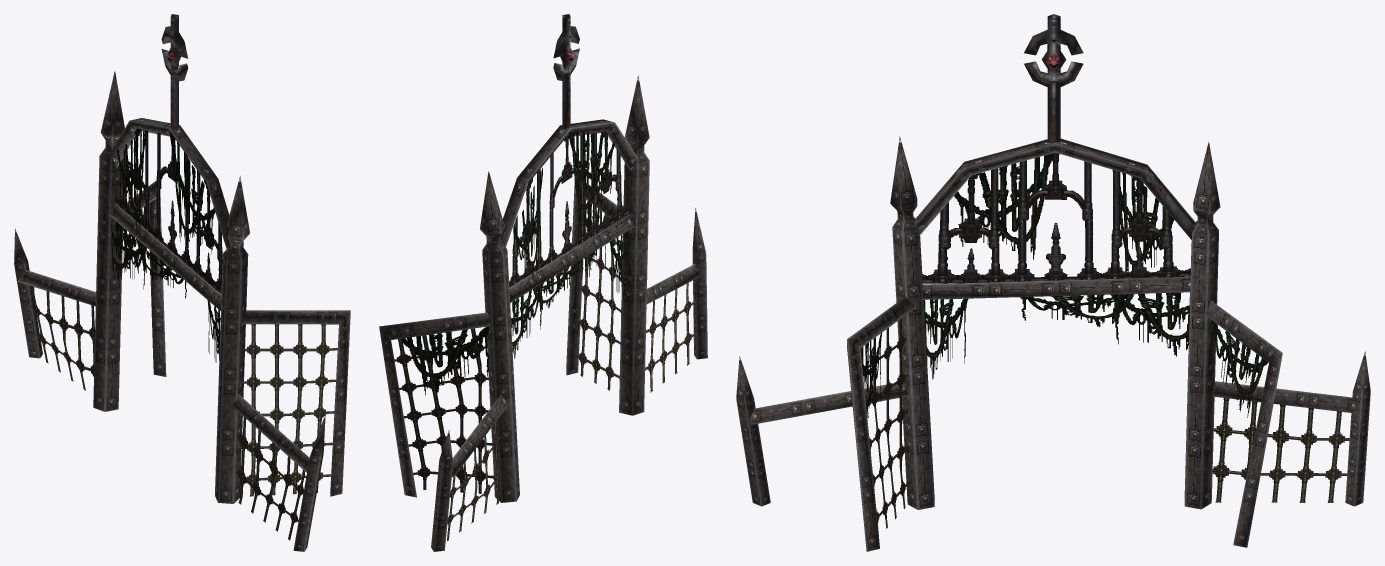
File: cemetarygate01.obj
3 renders of one model, left to right at view 1: azimuth 30°, elevation 25°; view 2: azimuth 150°, elevation 25°; view 3: azimuth 270°, elevation 25°, orthographic. The views are drawn at different scales.
Parts seen in each view (by area): view 1: CEMETARYGATE010, CEMETARYGATE013, CEMETARYGATE014, CEMETARYGATE012, CEMETARYGATE011; view 2: CEMETARYGATE010, CEMETARYGATE014, CEMETARYGATE013, CEMETARYGATE012, CEMETARYGATE011; view 3: CEMETARYGATE010, CEMETARYGATE014, CEMETARYGATE012, CEMETARYGATE013, CEMETARYGATE011.
Boxes of the visible parts, x1,y1,x2,y2 form: CEMETARYGATE010: [14, 71, 350, 551]; CEMETARYGATE013: [30, 286, 337, 540]; CEMETARYGATE014: [111, 129, 221, 362]; CEMETARYGATE012: [115, 128, 222, 293]; CEMETARYGATE011: [161, 14, 188, 130]; CEMETARYGATE010: [379, 75, 707, 551]; CEMETARYGATE014: [401, 132, 630, 395]; CEMETARYGATE013: [394, 207, 695, 541]; CEMETARYGATE012: [509, 131, 628, 287]; CEMETARYGATE011: [553, 14, 579, 129]; CEMETARYGATE010: [736, 136, 1370, 551]; CEMETARYGATE014: [860, 154, 1268, 417]; CEMETARYGATE012: [922, 152, 1190, 283]; CEMETARYGATE013: [861, 318, 1349, 535]; CEMETARYGATE011: [1024, 14, 1083, 142].
Bounding box in the file's own units: 3.5 × 13.37 × 15.64.
Materials: 5 (5 with a texture image).
